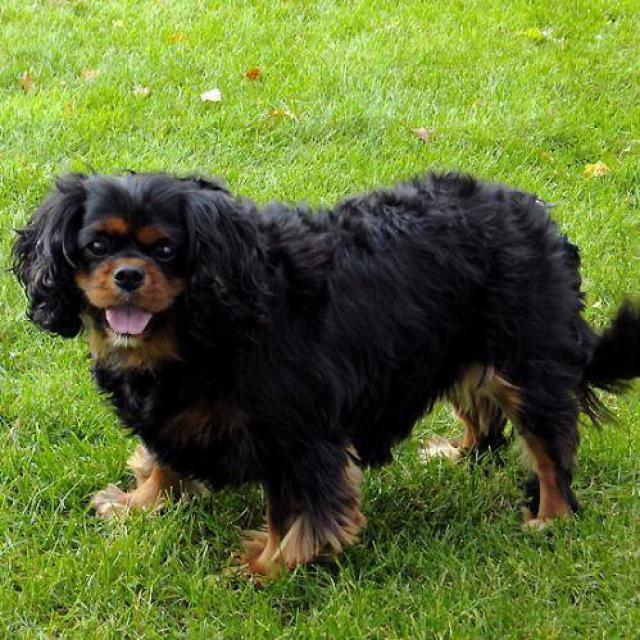dog: (2, 165, 638, 583)
